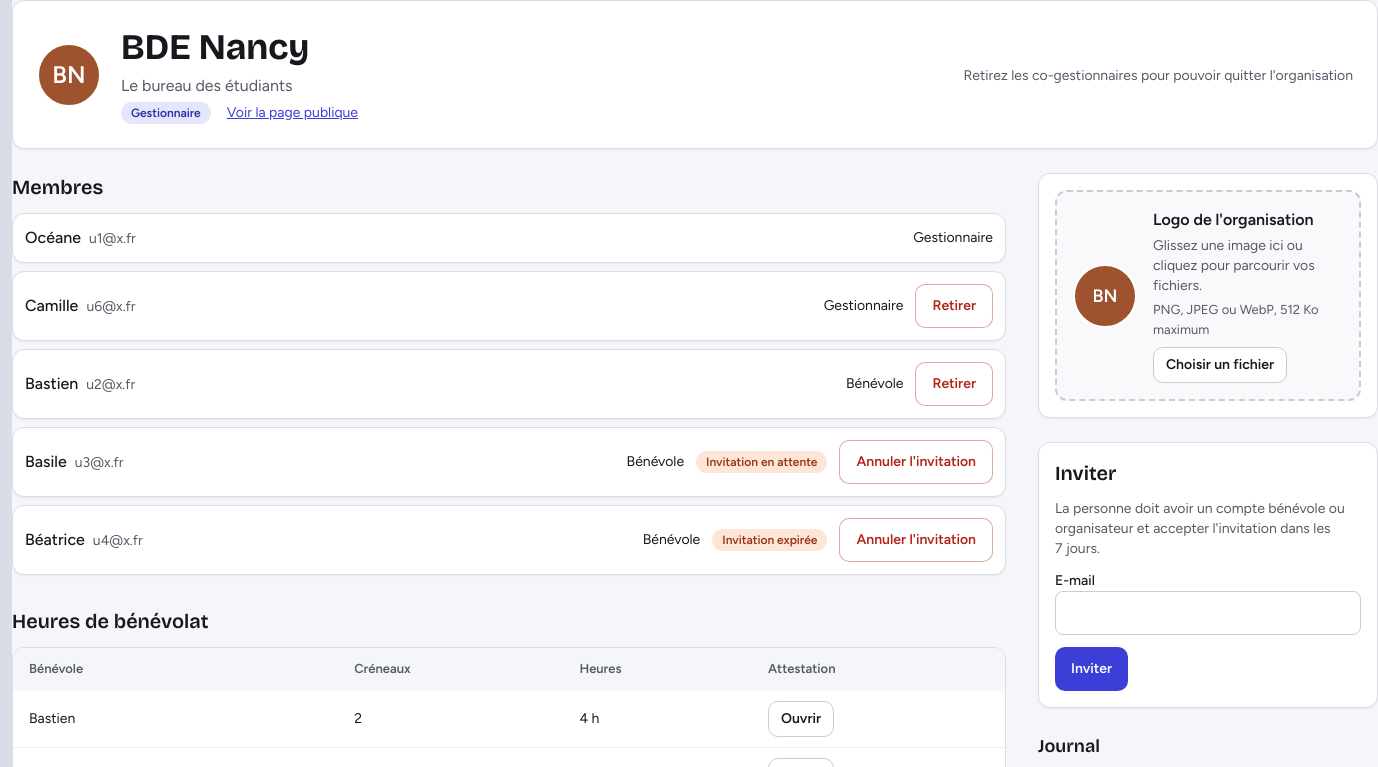
Test: OrganizationDetailView › translates the refusal of an invitation
In the field labelled "E-mail": (1208, 613) [1055, 591, 1361, 635], type "b@x.fr"
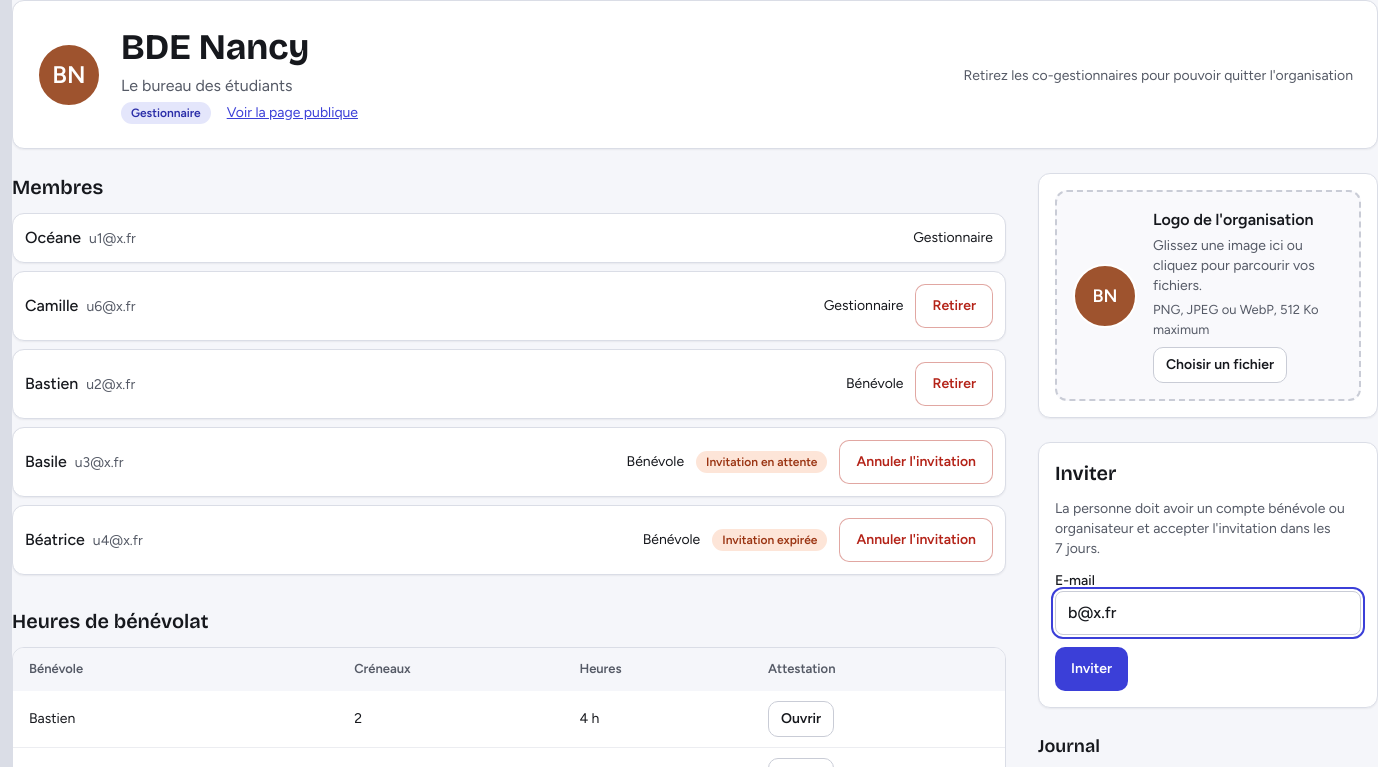
Click the button "Inviter": (1092, 669) [1055, 647, 1128, 691]
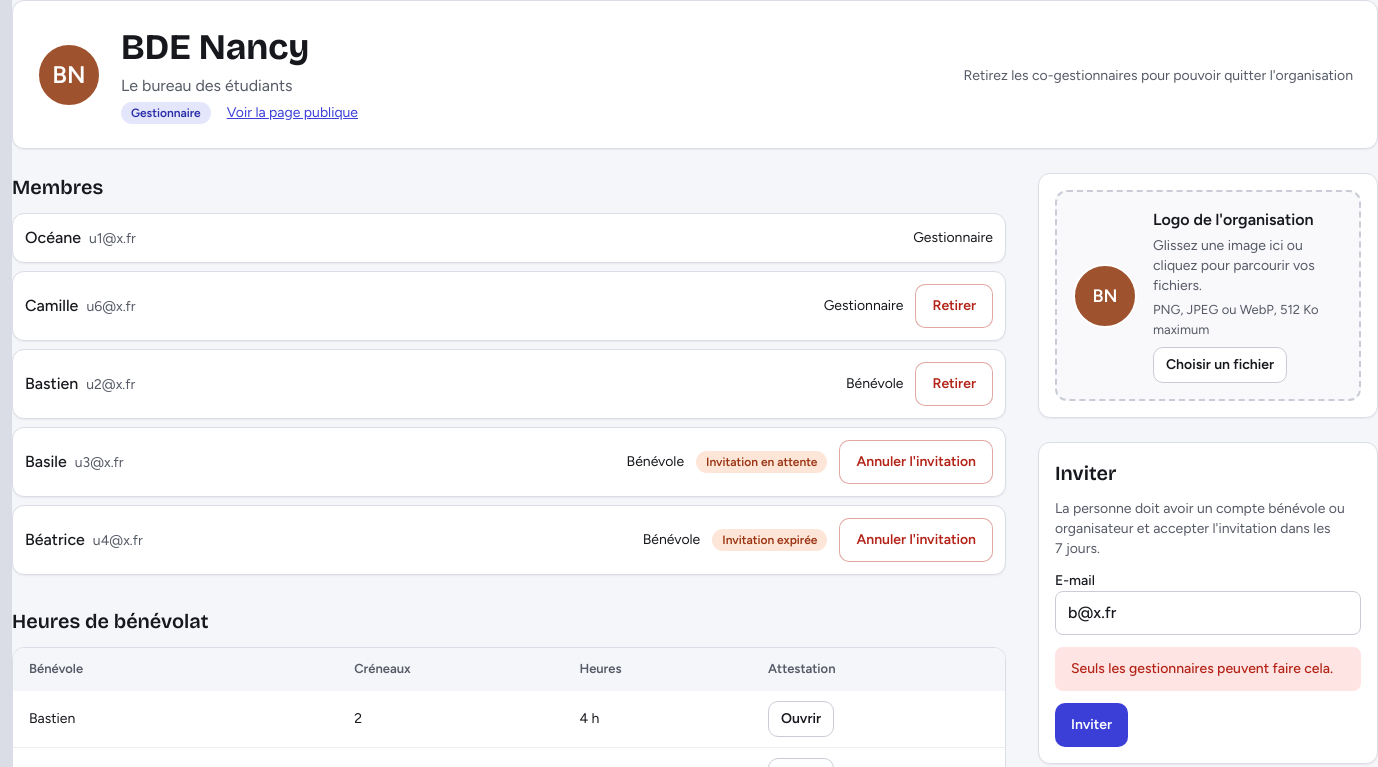
Check: the message reads "Seuls les gestionnaires peuvent faire cela.", box [1071, 660, 1333, 677]
